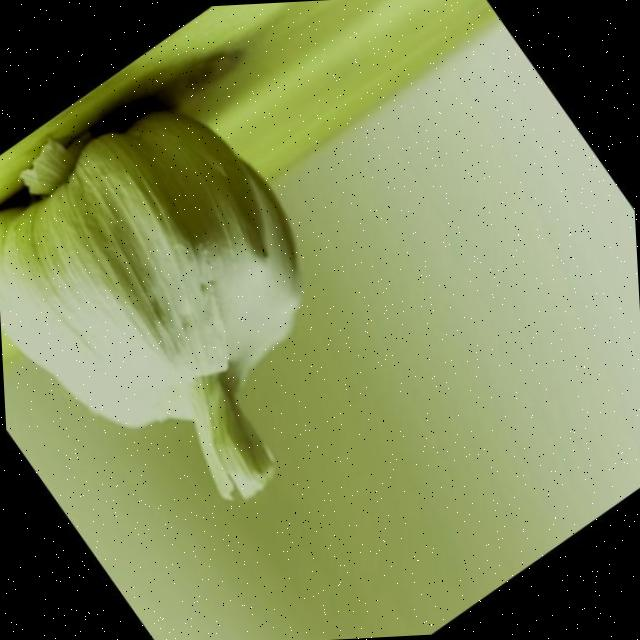garlic: (0, 111, 300, 499)
